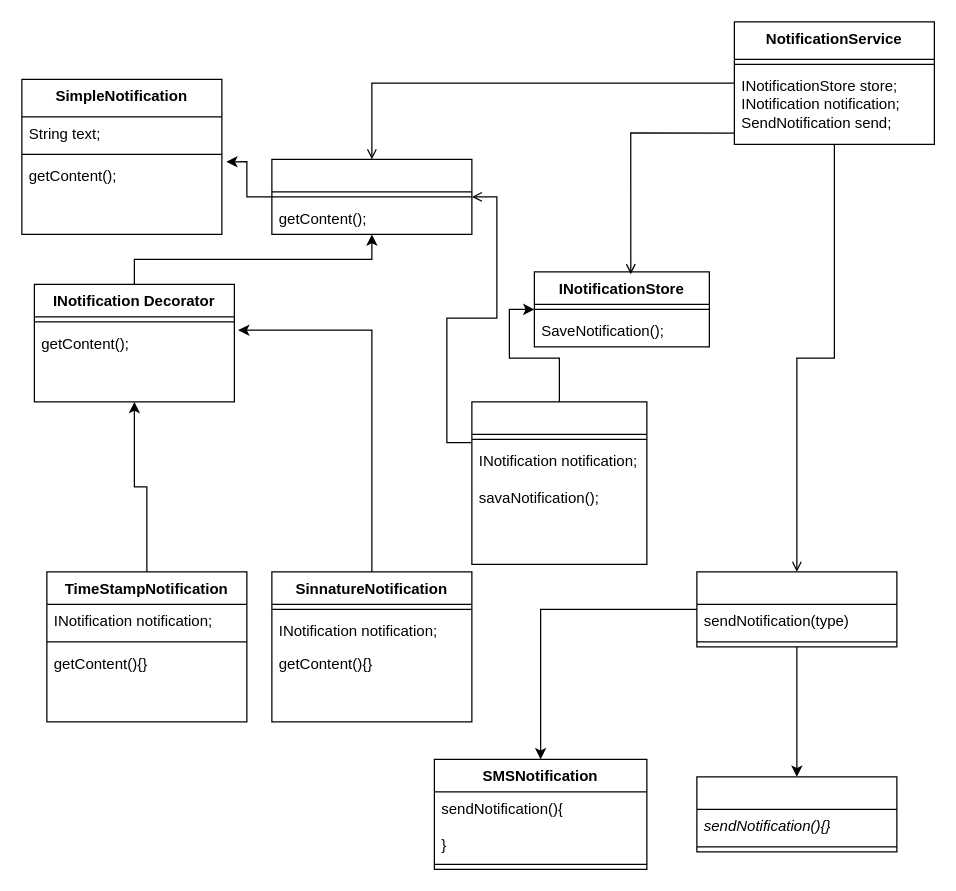
The diagram is 956 pixels wide and 891 high, and some of its shapes have lost their labels. Each missing label, with the box of its shape:
EmailNotification: (696, 776, 897, 852)
INotification: (271, 158, 472, 234)
INotificationFactory: (696, 571, 897, 647)
SaveNotification: (471, 401, 647, 564)
